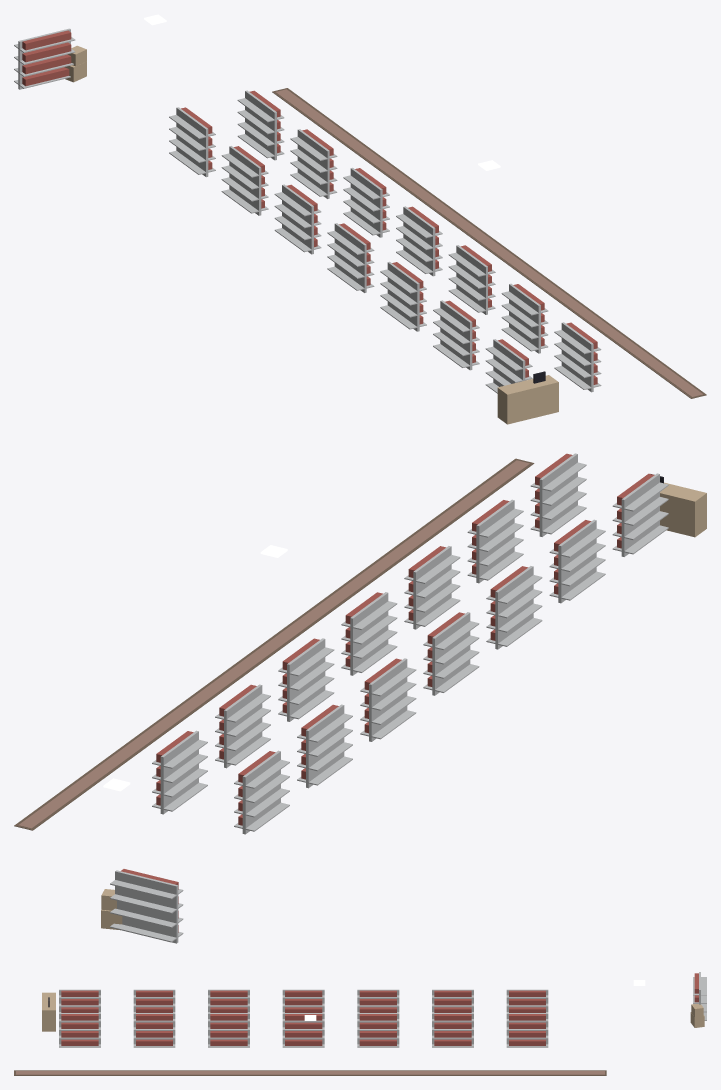
File: fine-s0.glb
3 views of the same model, one above another, from view 1: azimuth 30°, elevation 25°; view 2: azimuth 150°, elevation 25°; view 3: azimuth 270°, elevation 25° (orthographic). The views are drawn at different scales.
Parts seen in each view (by area): view 1: soft-s0, shelving.000, shop-counter.000, shelf.004, shelf.009, shelf.013, shelf.003, shelf.008, shelf.000, shelf.001, shelf.005, shelf.012 (+5 smaller); view 2: soft-s0, shelving.000, shelf.004, shelf.002, shelf.003, shelf.010, shelf.011, shelf.009, shelf.008, shelf.001, shelf.013, shelf.006 (+5 smaller); view 3: soft-s0, shelf.007, shelf.009, shelf.012, shelf.008, shelf.011, shelf.013, shelf.010, shelf.002, shelf.003, shelf.000, shelf.005 (+6 smaller).
Part boxes in pixels (x1,y1,x2,y2): soft-s0: (272,88,706,398); shelving.000: (14,28,75,89); shop-counter.000: (497,371,558,424); shelf.004: (380,261,426,331); shelf.009: (343,167,389,237); shelf.013: (554,322,601,392); shelf.003: (327,223,374,292); shelf.008: (290,129,337,198); shelf.000: (169,107,215,177); shelf.001: (221,146,268,215); shelf.005: (433,300,479,370); shelf.012: (501,283,548,353); soft-s0: (14,458,534,830); shelving.000: (110,869,183,943); shelf.004: (486,566,542,649); shelf.002: (360,658,416,741); shelf.003: (423,612,479,695); shelf.010: (341,592,397,675); shelf.011: (404,546,460,629); shelf.009: (278,638,334,721); shelf.008: (215,684,270,768); shelf.001: (297,704,352,788); shelf.013: (530,453,586,536); shelf.006: (612,473,668,556); soft-s0: (14,1070,606,1075); shelf.007: (506,1013,548,1047); shelf.009: (357,1013,399,1047); shelf.012: (133,1013,175,1047); shelf.008: (432,1013,473,1047); shelf.011: (208,1013,249,1047); shelf.013: (59,1013,100,1047); shelf.010: (282,1013,324,1047); shelf.002: (357,989,399,1012); shelf.003: (282,989,324,1012); shelf.000: (506,989,548,1012); shelf.005: (133,989,175,1012).
Size of the model in its own units: 7.09 by 2.64 by 29.73.
